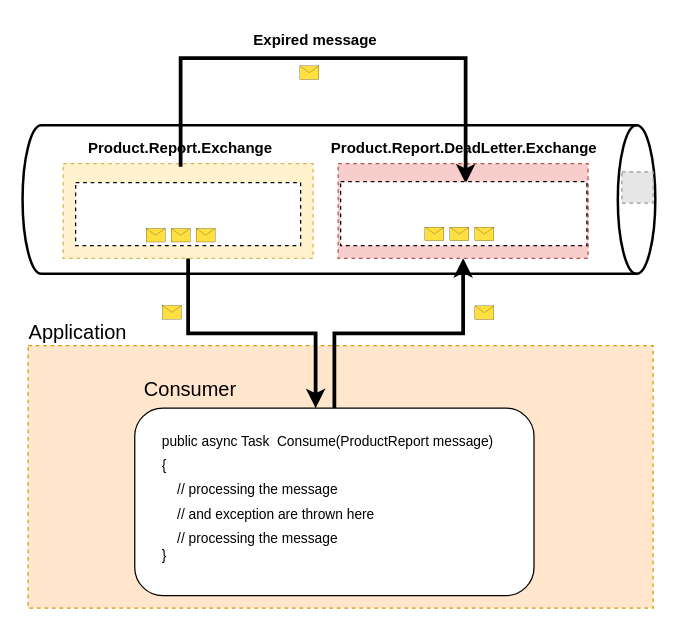
The diagram is 679 pixels wide and 630 high, and some of its shapes have lost their labels. Grey dashed boxes stand in for pictures. The centre of each missing label's shape, as x and y in pixels:
"Product.Report.DeadLetter.Queue" belongs at pixel 463 213.
"Product.Report.Queue" belongs at pixel 187 213.
